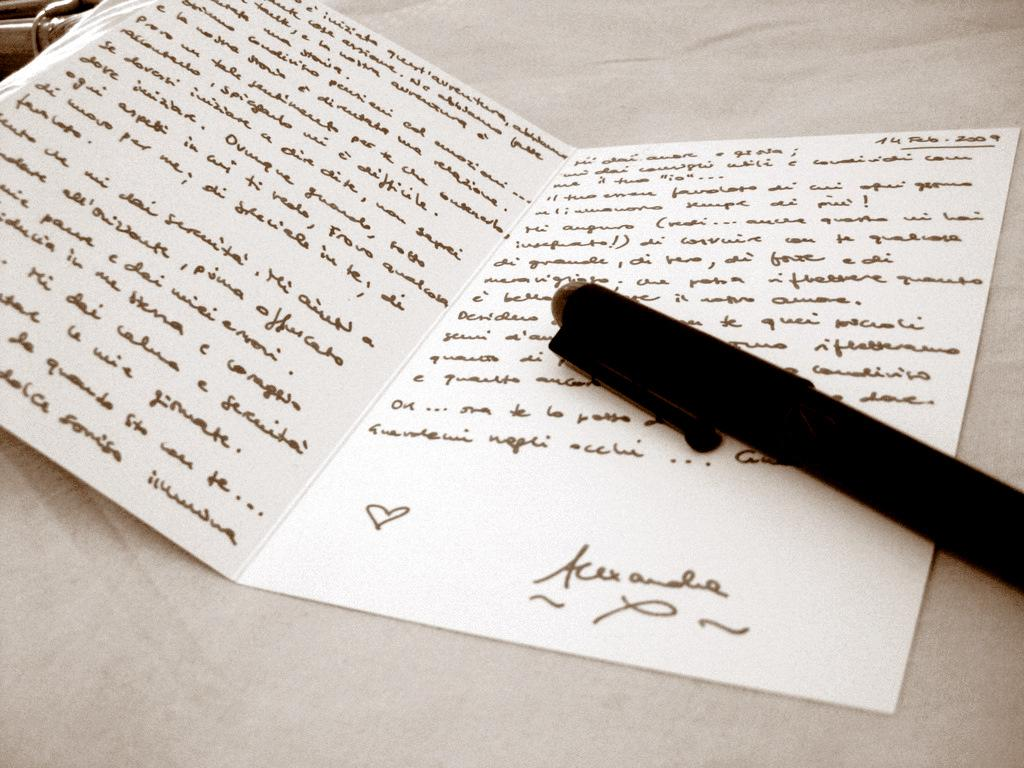Pen: (515, 282, 1024, 616)
